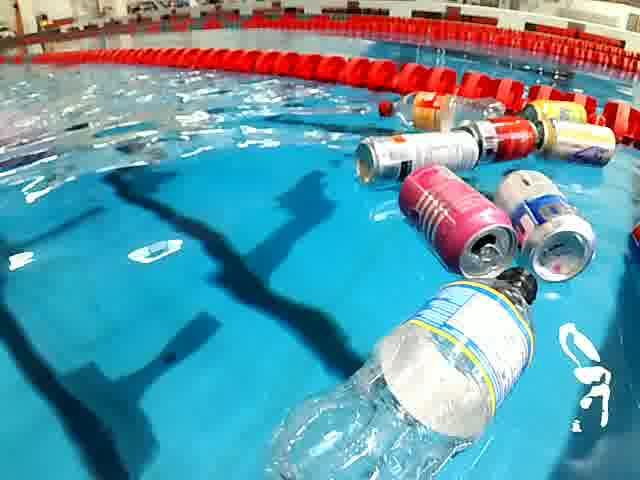Bottle: (246, 262, 545, 480), (371, 89, 508, 138)
Can: (396, 160, 525, 285), (496, 167, 600, 290), (349, 128, 483, 189), (452, 111, 546, 166), (529, 117, 622, 172), (513, 98, 592, 131)
